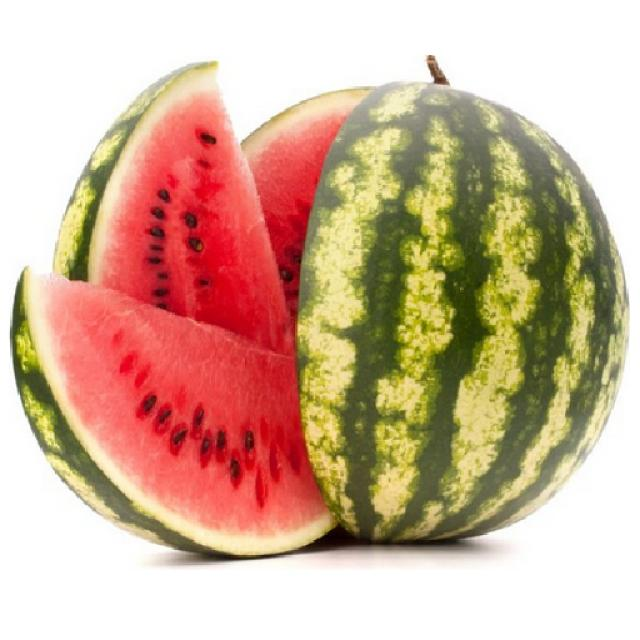watermelon: (210, 62, 640, 552), (0, 251, 345, 563), (40, 43, 299, 421)
